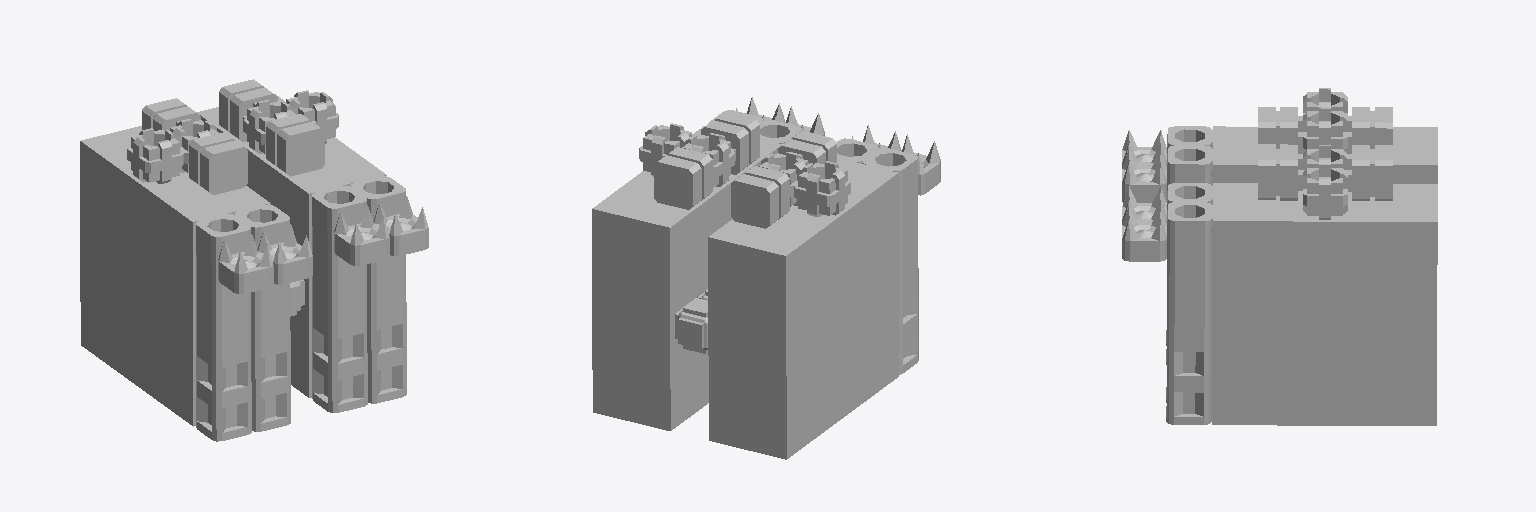
The model's file is basiconeScale.obj.
3 views of the same model, side by side, from view 1: azimuth 30°, elevation 25°; view 2: azimuth 150°, elevation 25°; view 3: azimuth 270°, elevation 25° (orthographic).
Visible parts, largest first — view 1: body; view 2: body; view 3: body.
Part boxes in pixels (x1,y1,x2,y2): body: (80, 79, 428, 441); body: (592, 97, 940, 459); body: (1122, 88, 1437, 425).
Size of the model in its own units: 57.41 by 69.42 by 80.79.